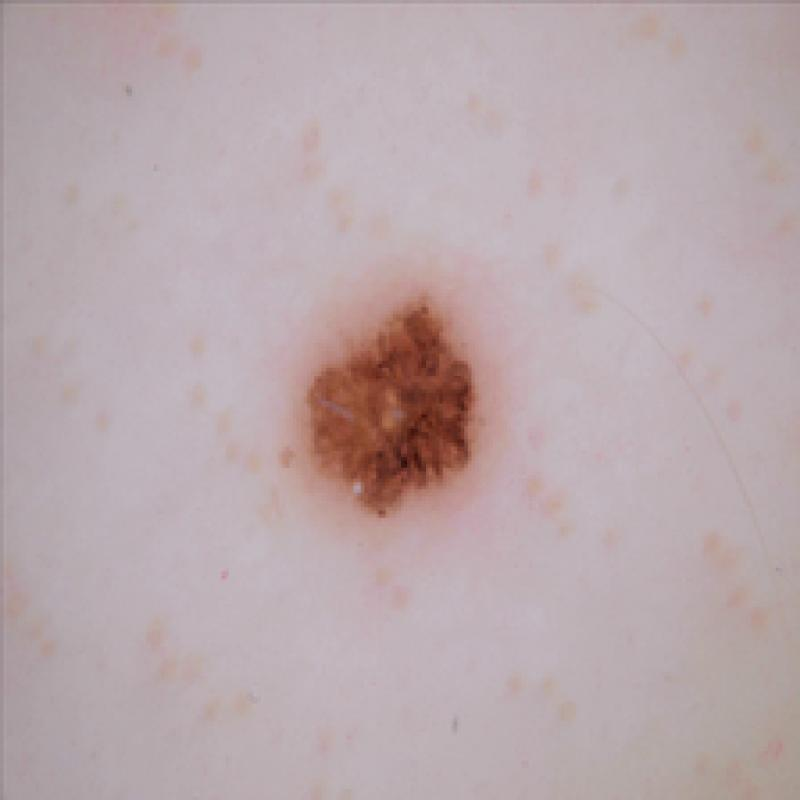benign: (276, 284, 520, 532)
